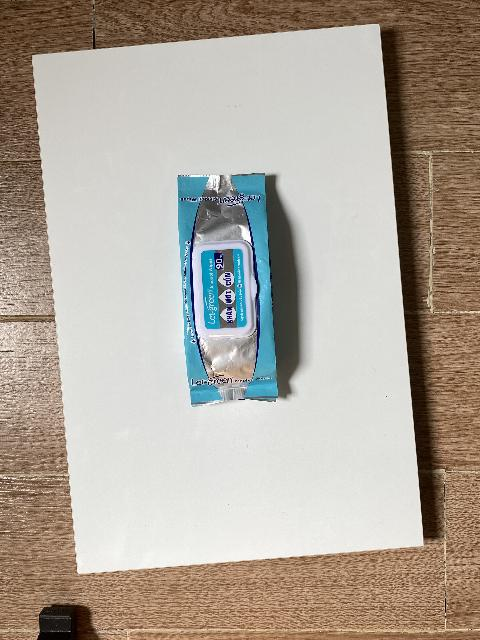Let-green_alcohol_wipes: (177, 174, 279, 408)
